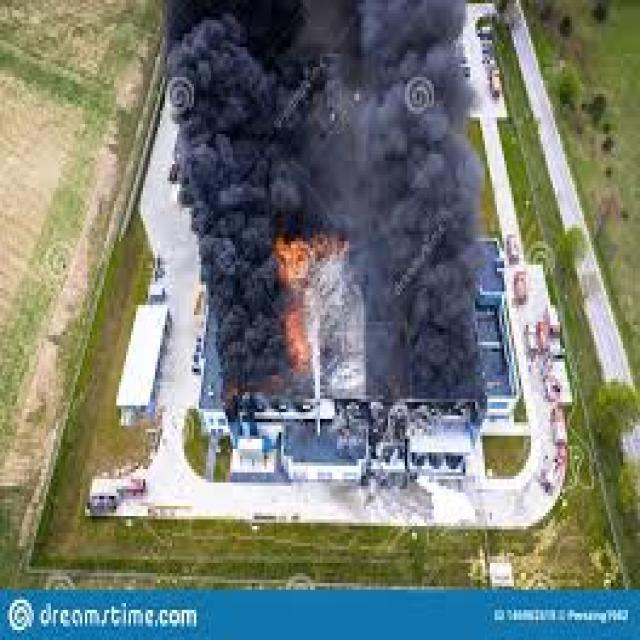Fire: (272, 230, 354, 397)
Smoke: (354, 0, 498, 410), (160, 0, 350, 225), (176, 226, 270, 397)
